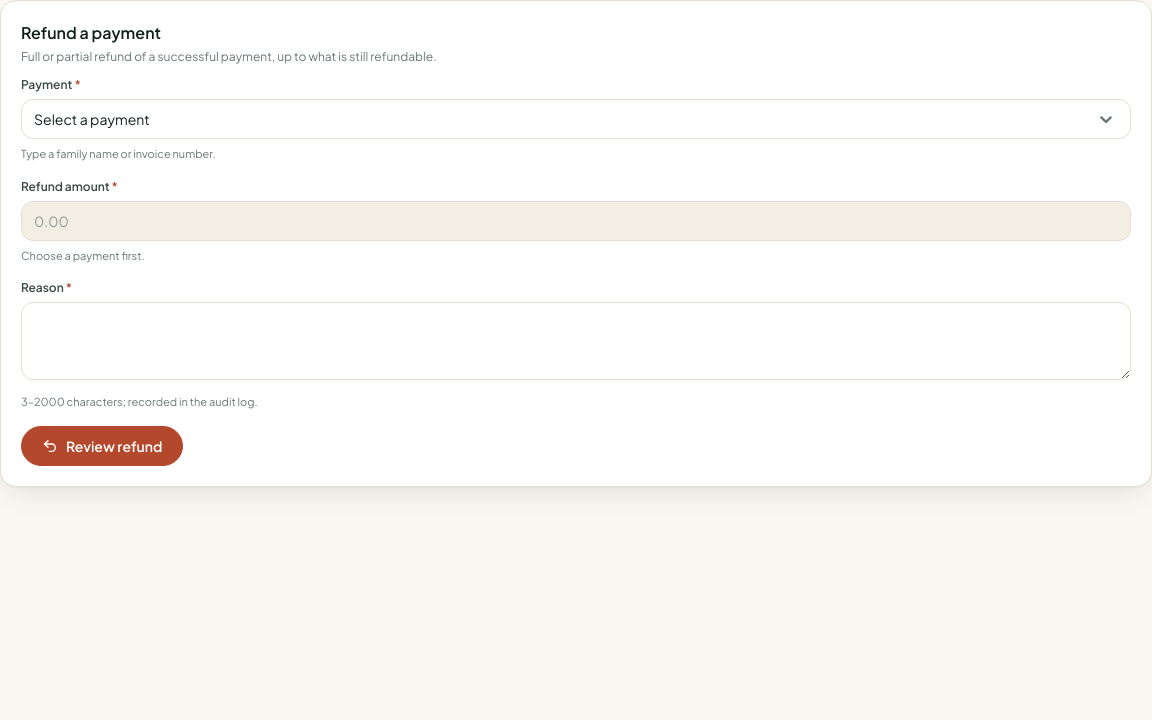
Test case: RefundForm › confirms, then posts minor units with an Idempotency-Key
The width and height of the screenshot is (1152, 720).
Expected: the text "Select a payment" is shown, [34,110,150,128]
Focus the dropdown labelled "Payment*" at (35, 119), box [34,108,36,130]
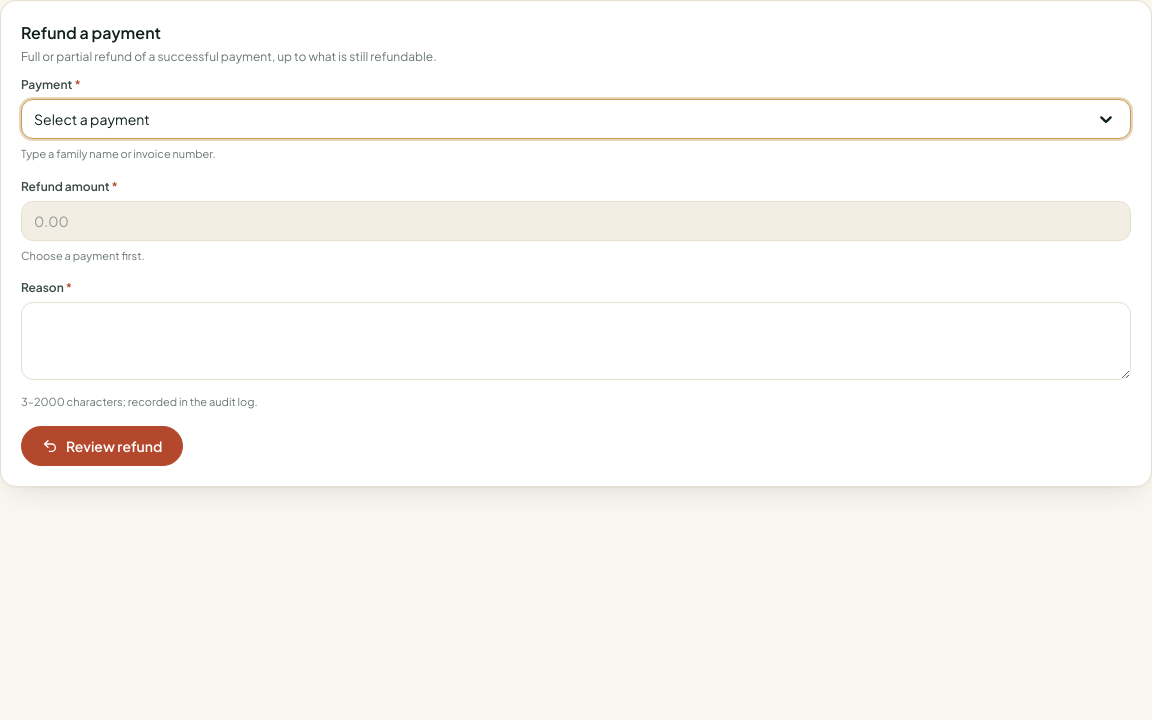
Press ArrowDown in the dropdown labelled "Payment*", box [34,108,36,130]
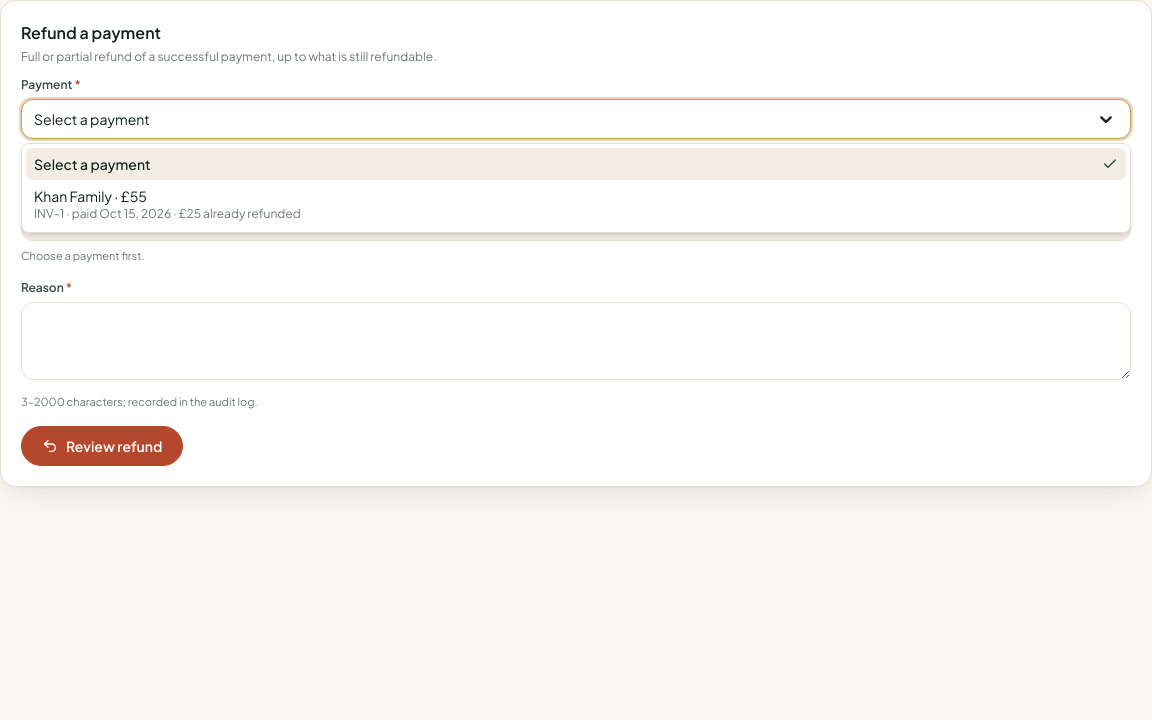
Click the option that starts with "Khan Family · £55" at (167, 204), box [34,187,301,221]
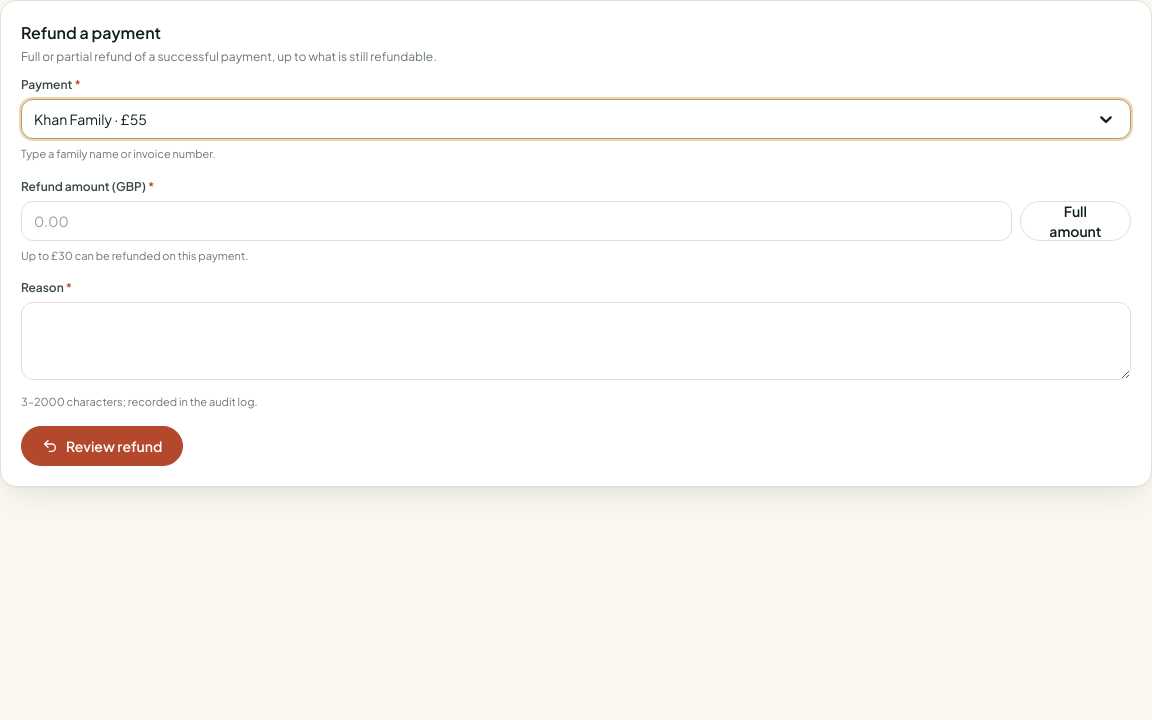
Type "12.50" into the field labelled "Refund amount (GBP)*" at (516, 221), box [21,201,1012,241]
Type "Duplicate" into the text box labelled "Reason*" at (576, 341), box [21,302,1131,380]
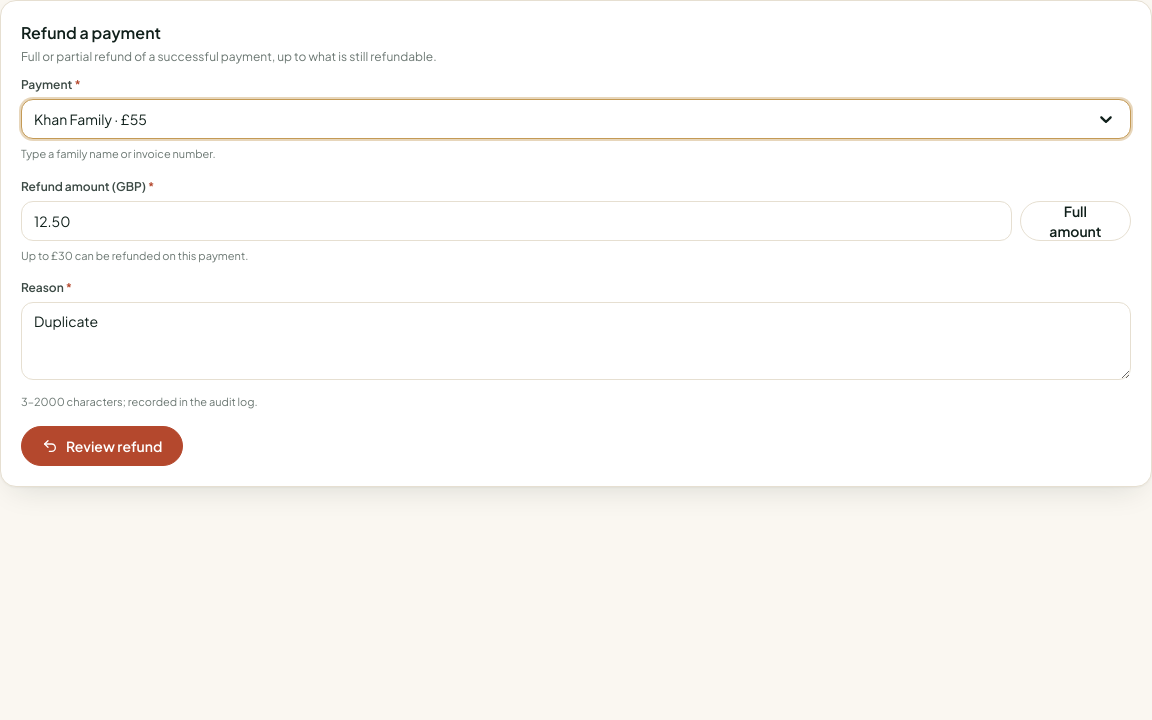
Click the button "Review refund" at (102, 446), box [21,426,183,466]
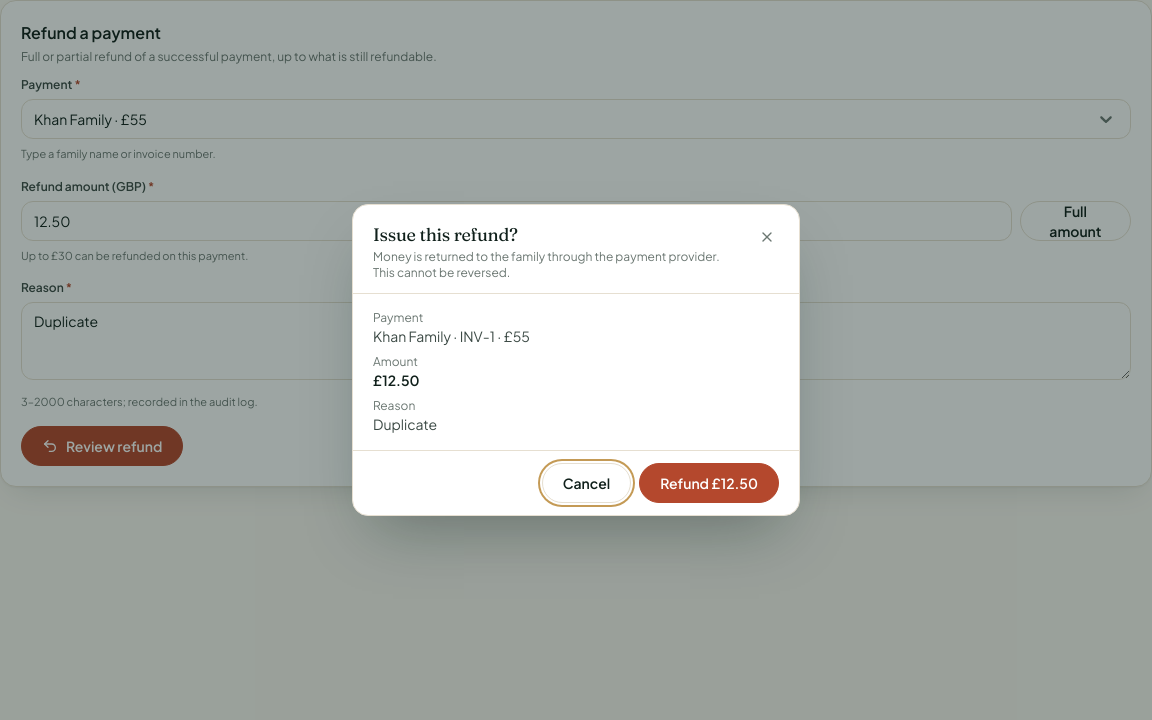
Now the dialog shows "£12.50", box [373,371,420,389]
Click the button "Refund £12.50" at (709, 483), box [639,463,779,503]
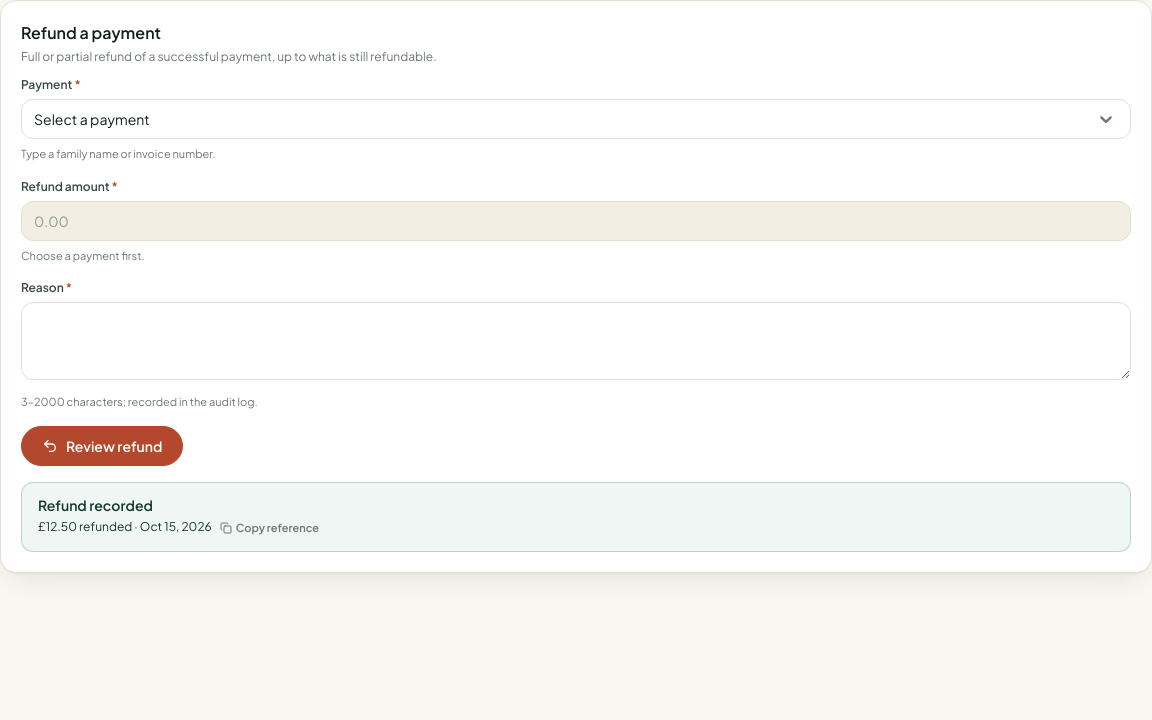
Now the text "Refund recorded" is shown, box [38,496,153,514]
